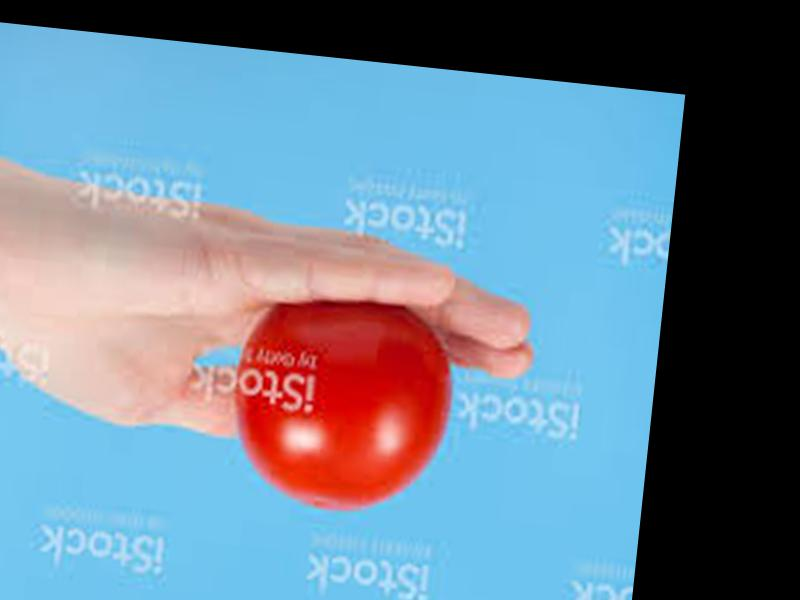Tomato: (227, 292, 459, 516)
